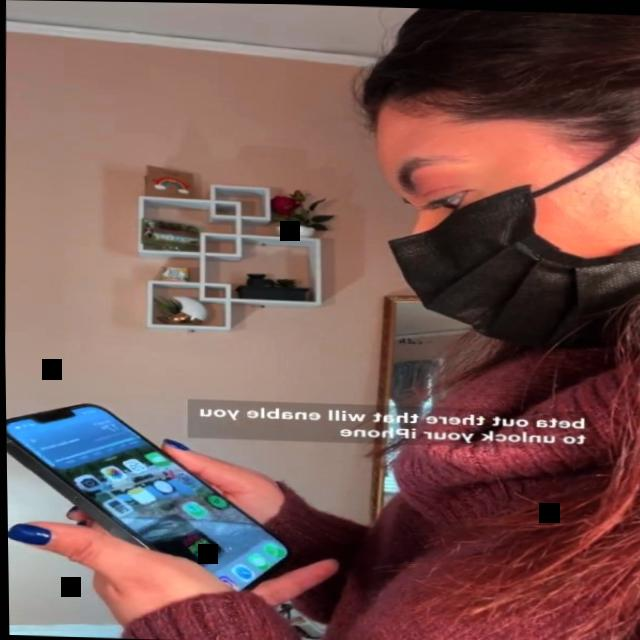Mask: (369, 84, 640, 345)
